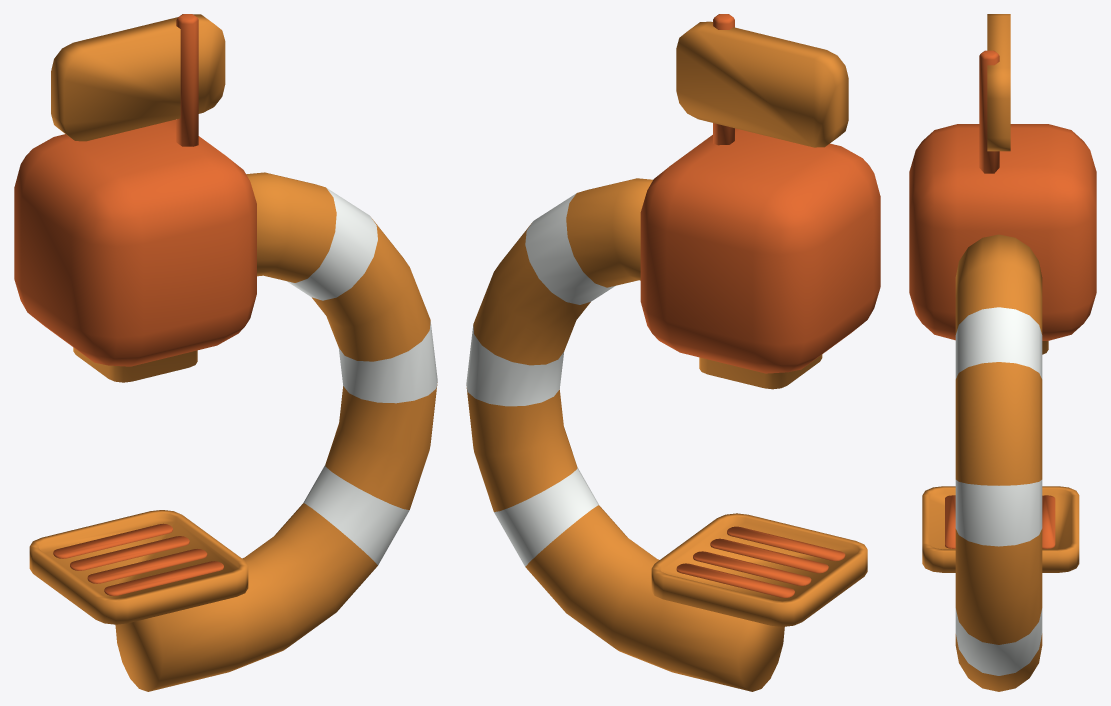
File: Solid food machine2.fbx
3 renders of one model, left to right at view 1: azimuth 30°, elevation 25°; view 2: azimuth 150°, elevation 25°; view 3: azimuth 270°, elevation 25°, orthographic. The views are drawn at different scales.
Visible parts, largest first — view 1: Cylinder.022, Cube.058, Cube.059, Cube.060, Cylinder.023, Cube.062, Cube.063, Cube.061, Cube.064; view 2: Cylinder.022, Cube.058, Cube.059, Cube.060, Cube.062, Cube.064, Cube.061, Cube.063, Cylinder.023; view 3: Cylinder.022, Cube.058, Cube.060, Cube.059, Cylinder.023, Cube.064, Cube.063.
Boxes of the visible parts, x1,y1,x2,y2 form: Cylinder.022: (115,172,437,691); Cube.058: (14,119,256,382); Cube.059: (51,14,225,141); Cube.060: (29,510,248,624); Cylinder.023: (176,14,198,146); Cube.062: (87,549,207,583); Cube.063: (104,561,223,596); Cube.061: (70,536,189,570); Cube.064: (53,523,172,558); Cylinder.022: (466,178,784,691); Cube.058: (640,128,880,389); Cube.059: (676,21,848,147); Cube.060: (651,513,867,626); Cube.062: (710,538,828,573); Cube.064: (676,563,794,597); Cube.061: (693,551,811,585); Cube.063: (727,526,845,561); Cylinder.023: (713,14,734,145); Cylinder.022: (955,234,1042,691); Cube.058: (909,124,1096,354); Cube.060: (922,486,1079,572); Cube.059: (987,14,1010,151); Cylinder.023: (979,50,999,173); Cube.064: (1042,495,1055,548); Cube.063: (945,495,955,548).
Bounding box in the file's own units: 119 × 198 × 55.61.
